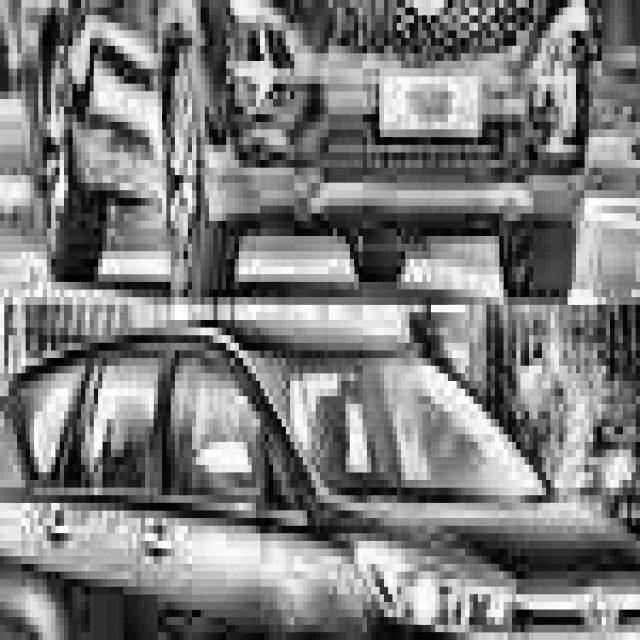light_vehicle: (0, 320, 640, 640), (26, 0, 593, 297)
